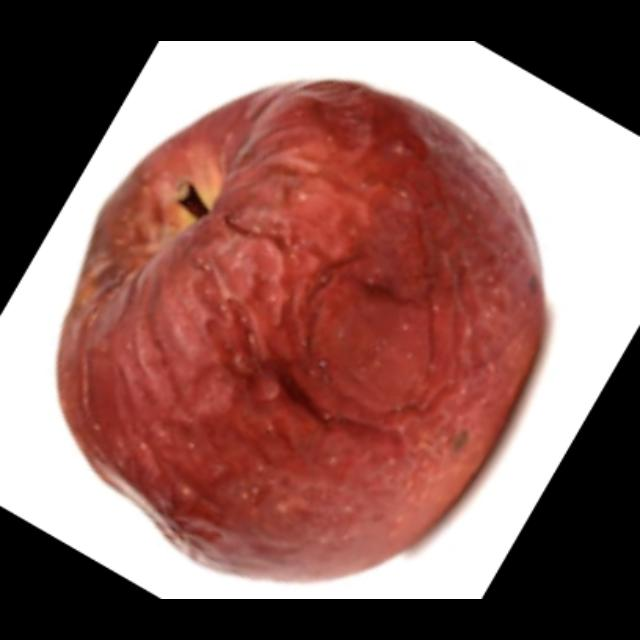Apel Tidak Segar: (85, 48, 573, 590)
